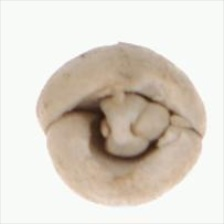L3: (74, 87, 188, 163)
L4: (36, 43, 206, 207)
